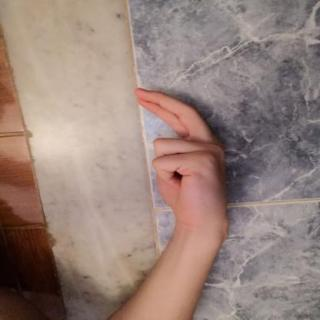ZAY: (123, 81, 238, 234)
